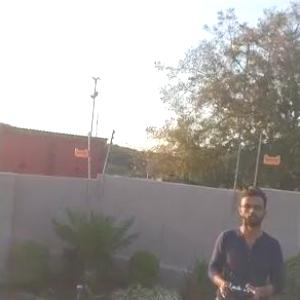follow: (202, 183, 288, 299)
